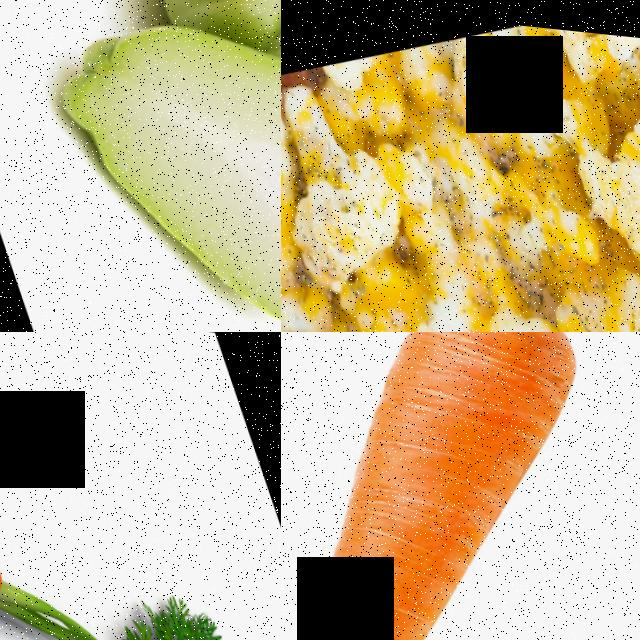carrot: (281, 332, 640, 640), (0, 332, 117, 640)
chayote: (69, 20, 281, 332)
